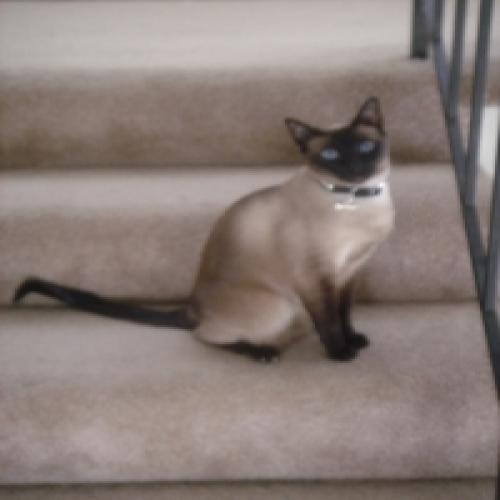siamese: (270, 76, 411, 191)
